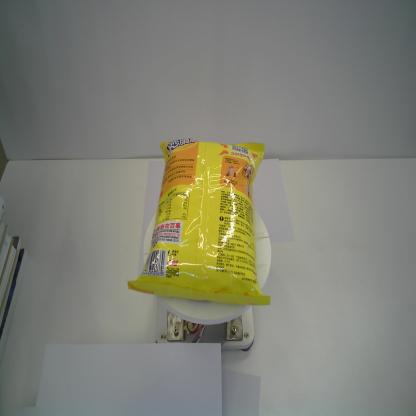Puffed Food: (124, 138, 272, 306)
